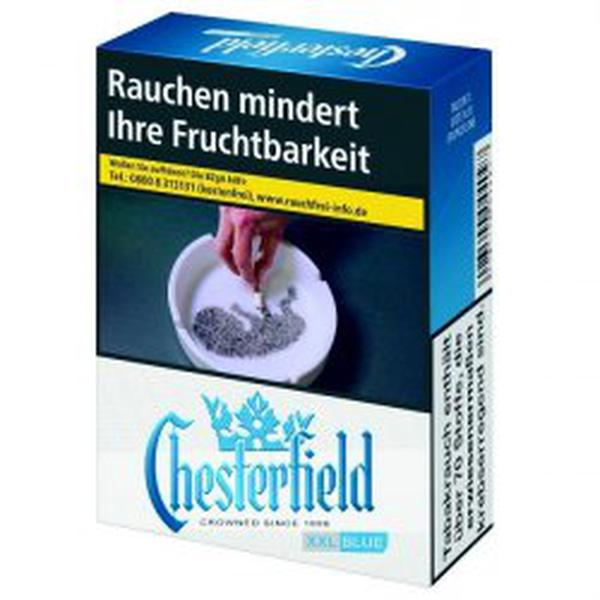chesterfield_blue: (97, 91, 428, 562)
